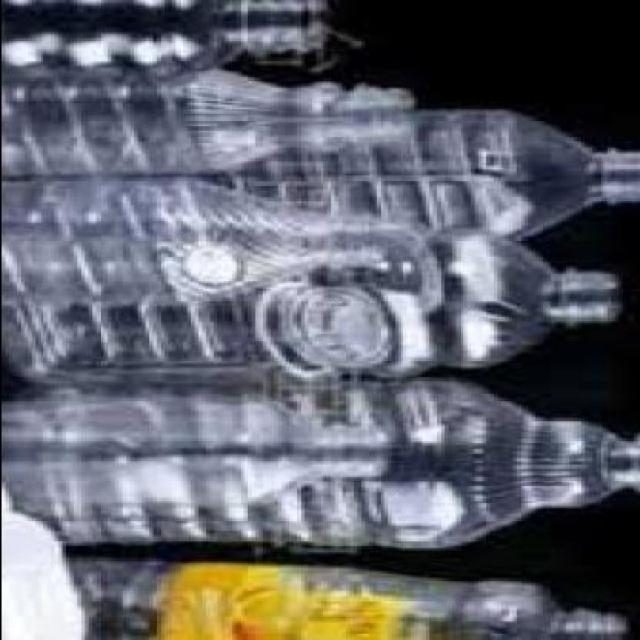PLASTIC: (7, 373, 638, 544), (4, 235, 621, 378), (163, 105, 639, 242), (4, 174, 390, 306), (4, 384, 390, 514), (4, 64, 421, 176), (129, 556, 633, 638), (3, 0, 339, 85)
